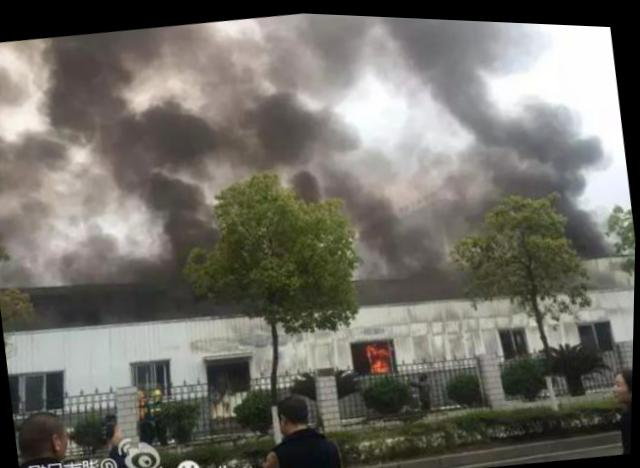fire: (369, 337, 394, 369)
